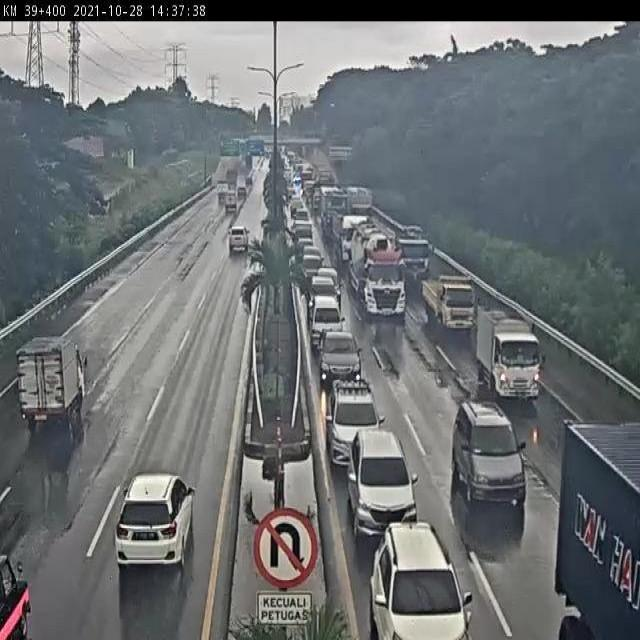big truck: (342, 220, 412, 323)
car: (367, 518, 479, 640), (347, 419, 422, 545), (450, 395, 530, 509), (109, 471, 193, 577), (322, 375, 386, 468), (319, 325, 363, 392)
small truck: (472, 295, 544, 405), (10, 326, 86, 430), (418, 272, 477, 339)
